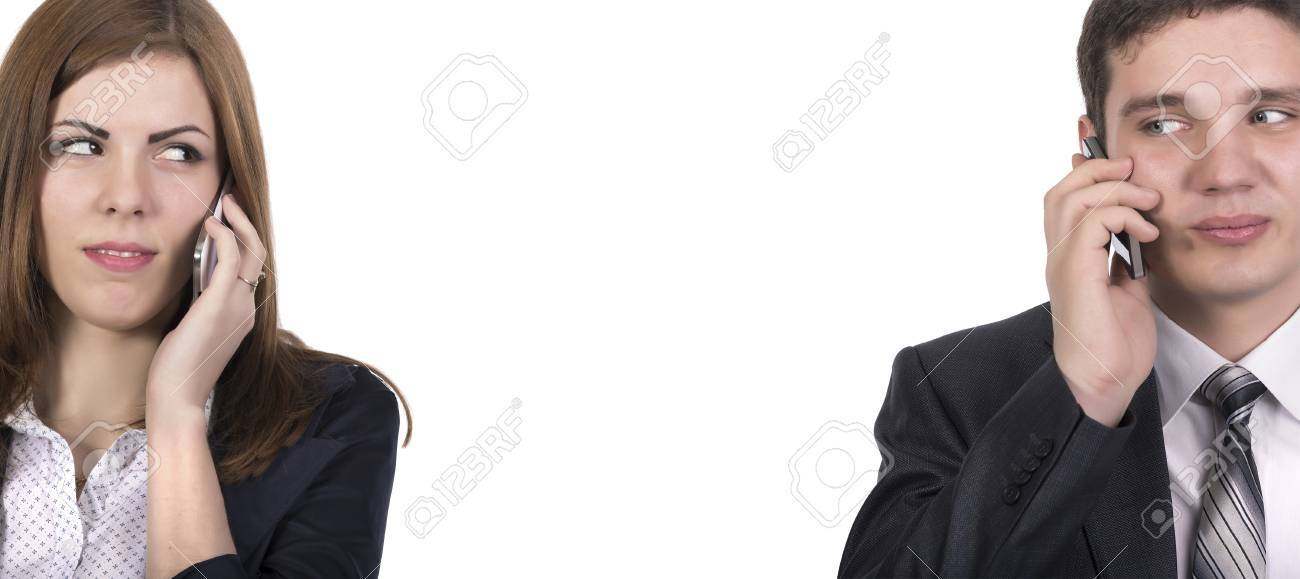phone: (1038, 131, 1167, 335), (164, 172, 271, 377)
talk: (1044, 84, 1300, 391), (49, 116, 283, 420)
